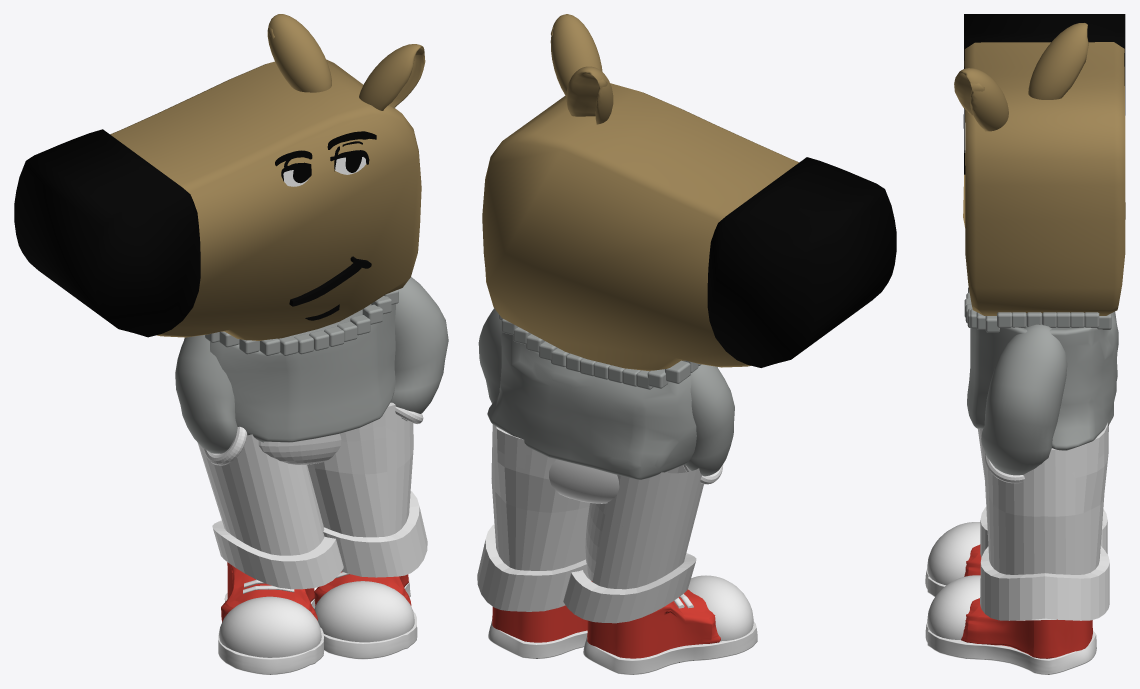
The model's file is chill_guy.glb.
3 views of the same model, side by side, from view 1: azimuth 30°, elevation 25°; view 2: azimuth 150°, elevation 25°; view 3: azimuth 270°, elevation 25° (orthographic).
Visible parts, largest first — view 1: head, Nose, Cube.004, R leg, L leg, Sphere.002, arm, Sphere.007, Sphere.001, ear.001, Colar, ear (+9 smaller); view 2: head, Nose, Cube.004, R leg, L leg, Shoe.002, arm, Colar, Shoe, Sphere.007, Shoe.003, ear (+5 smaller); view 3: head, R leg, Sphere.002, Cube.004, Nose, Shoe.003, ear.001, Shoe.001, Colar, ear, Sphere.001, Sphere.007 (+3 smaller).
Boxes of the visible parts, x1,y1,x2,y2 form: head: (110,59,421,340); Nose: (14,129,200,337); Cube.004: (184,304,395,442); R leg: (307,402,427,577); L leg: (198,434,343,589); Sphere.002: (390,277,448,420); arm: (175,335,237,453); Sphere.007: (219,596,321,657); Sphere.001: (314,581,414,642); ear.001: (267,14,331,92); Colar: (205,290,398,355); ear: (359,44,425,110); head: (482,83,798,371); Nose: (707,157,896,367); Cube.004: (487,331,717,479); R leg: (477,424,589,611); L leg: (563,465,703,623); Shoe.002: (587,581,720,658); arm: (685,364,734,476); Colar: (499,315,701,389); Shoe: (583,621,757,674); Sphere.007: (688,575,753,641); Shoe.003: (492,605,587,642); ear: (550,14,602,96); head: (963,42,1125,315); R leg: (978,423,1109,620); Sphere.002: (981,324,1067,475); Cube.004: (967,311,1118,450); Nose: (964,14,1125,174); Shoe.003: (961,598,1092,658); ear.001: (1028,23,1088,99); Shoe.001: (925,622,1096,674); Colar: (964,287,1111,332); ear: (954,68,1008,131); Sphere.001: (927,575,980,639); Sphere.007: (927,522,980,585).
Size of the model in its own units: 3.44 by 5.15 by 1.56.
